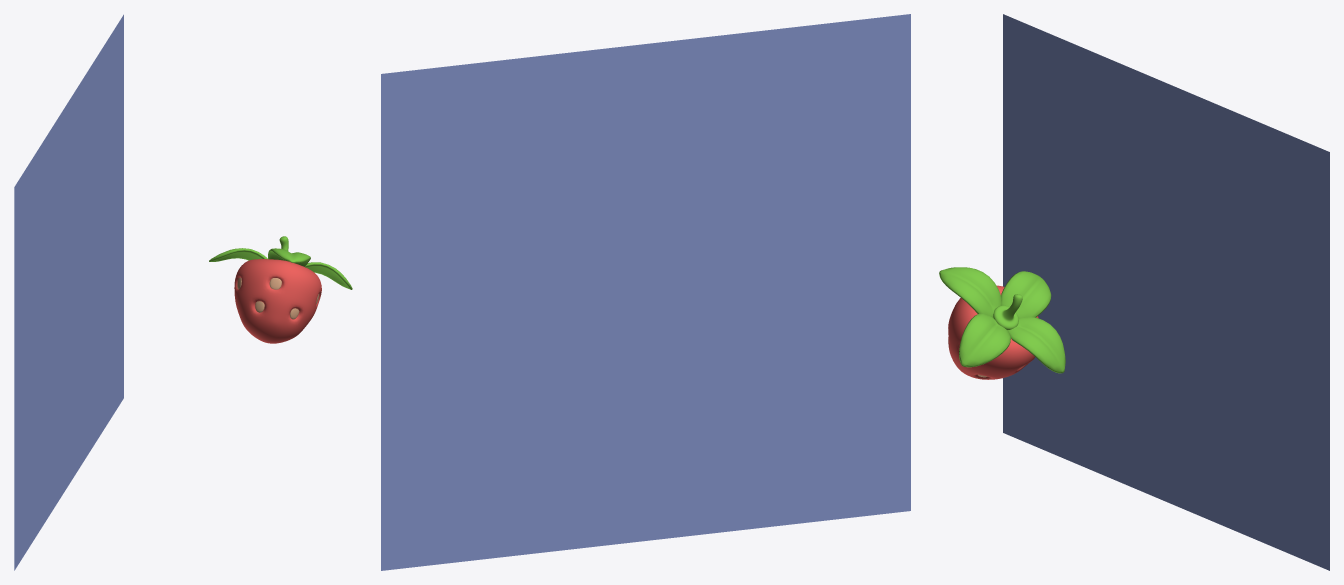
The model's file is strawberry.glb.
The picture shows the model from 3 angles, left to right: view 1: azimuth 30°, elevation 25°; view 2: azimuth 150°, elevation 25°; view 3: azimuth 270°, elevation 25°; orthographic projection. The views are drawn at different scales.
Visible parts, largest first — view 1: Bg, Body, Leaves; view 2: Bg; view 3: Bg, Leaves, Body, Stem.
Part boxes in pixels (x1=…): Bg: x1=14, y1=14, x2=123, y2=570; Body: x1=234, y1=259, x2=321, y2=343; Leaves: x1=209, y1=248, x2=352, y2=289; Bg: x1=381, y1=14, x2=910, y2=570; Bg: x1=1003, y1=14, x2=1329, y2=570; Leaves: x1=939, y1=267, x2=1065, y2=373; Body: x1=948, y1=285, x2=1038, y2=379; Stem: x1=993, y1=294, x2=1022, y2=329.
Size of the model in its own units: 7 by 8.03 by 6.79.
